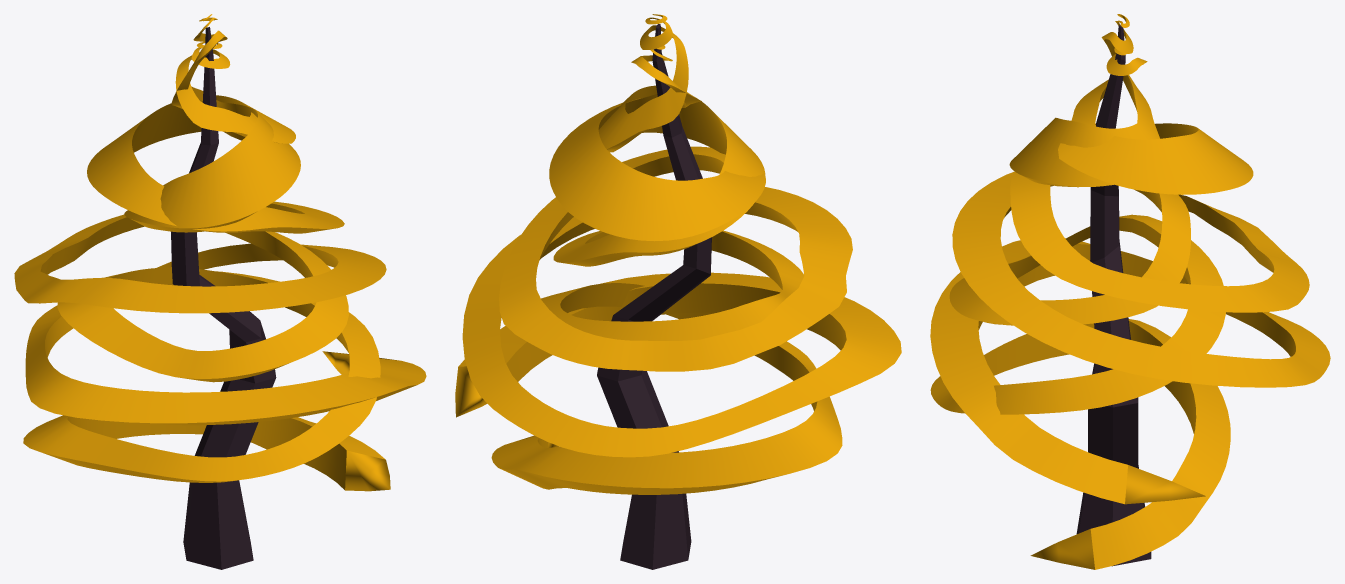
Rendered from SwirlBoom_1.fbx.
3 views of the same model, side by side, from view 1: azimuth 30°, elevation 25°; view 2: azimuth 150°, elevation 25°; view 3: azimuth 270°, elevation 25° (orthographic).
Parts seen in each view (by area): view 1: pHelix3; view 2: pHelix3; view 3: pHelix3.
Part boxes in pixels (bbox=[...]): pHelix3: bbox=[14, 14, 426, 569]; pHelix3: bbox=[455, 14, 901, 569]; pHelix3: bbox=[930, 14, 1330, 569].
Bounding box in the file's own units: 0.1223 × 0.158 × 0.1071.
